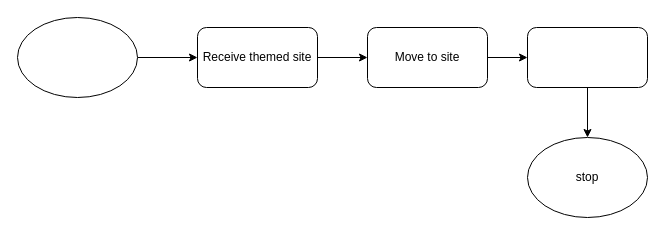
This 665x235 diagram has some shape labels left out. Each missing label, with the centre of its shape:
Preform task: point 587,57
start: point 77,57
